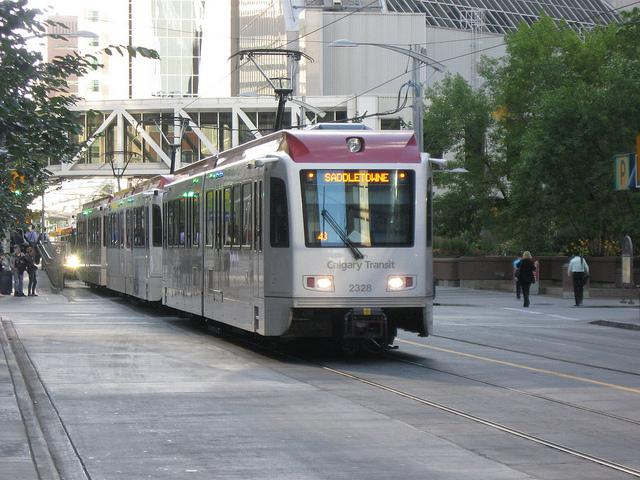Train: (49, 123, 444, 360)
